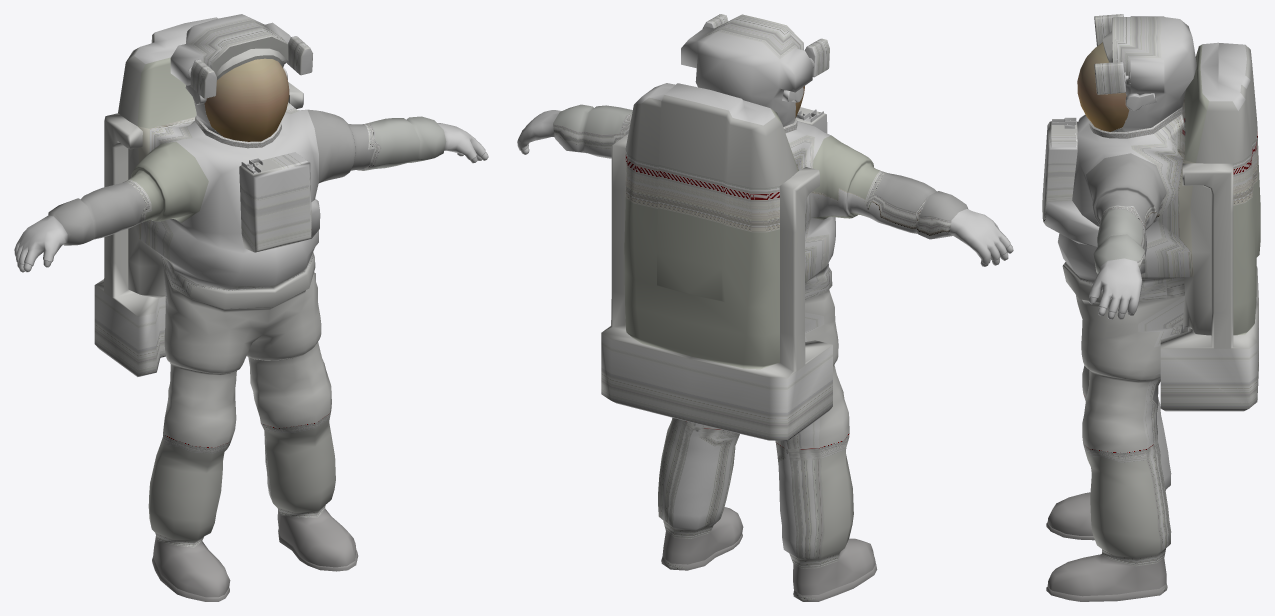
File: emu.glb
3 views of the same model, side by side, from view 1: azimuth 30°, elevation 25°; view 2: azimuth 150°, elevation 25°; view 3: azimuth 270°, elevation 25° (orthographic). The views are drawn at different scales.
Parts seen in each view (by area): view 1: astronaut1; view 2: astronaut1; view 3: astronaut1.
Part boxes in pixels (left/top/right/bottom): astronaut1: left=14, top=14, right=488, bottom=601; astronaut1: left=517, top=14, right=1013, bottom=601; astronaut1: left=1042, top=14, right=1260, bottom=601.
Size of the model in its own units: 68.91 by 74.26 by 27.6.
Materials: 2 (2 with a texture image).
